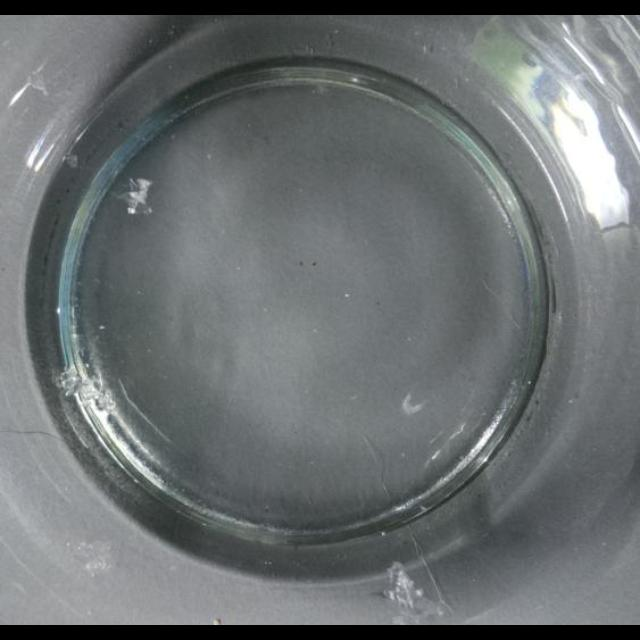Fibre: (379, 560, 448, 624), (50, 356, 124, 412), (423, 412, 471, 470), (114, 176, 154, 214), (24, 68, 51, 98), (56, 370, 82, 398), (401, 392, 425, 416), (64, 154, 78, 168)
microbeads: (71, 539, 115, 579)
